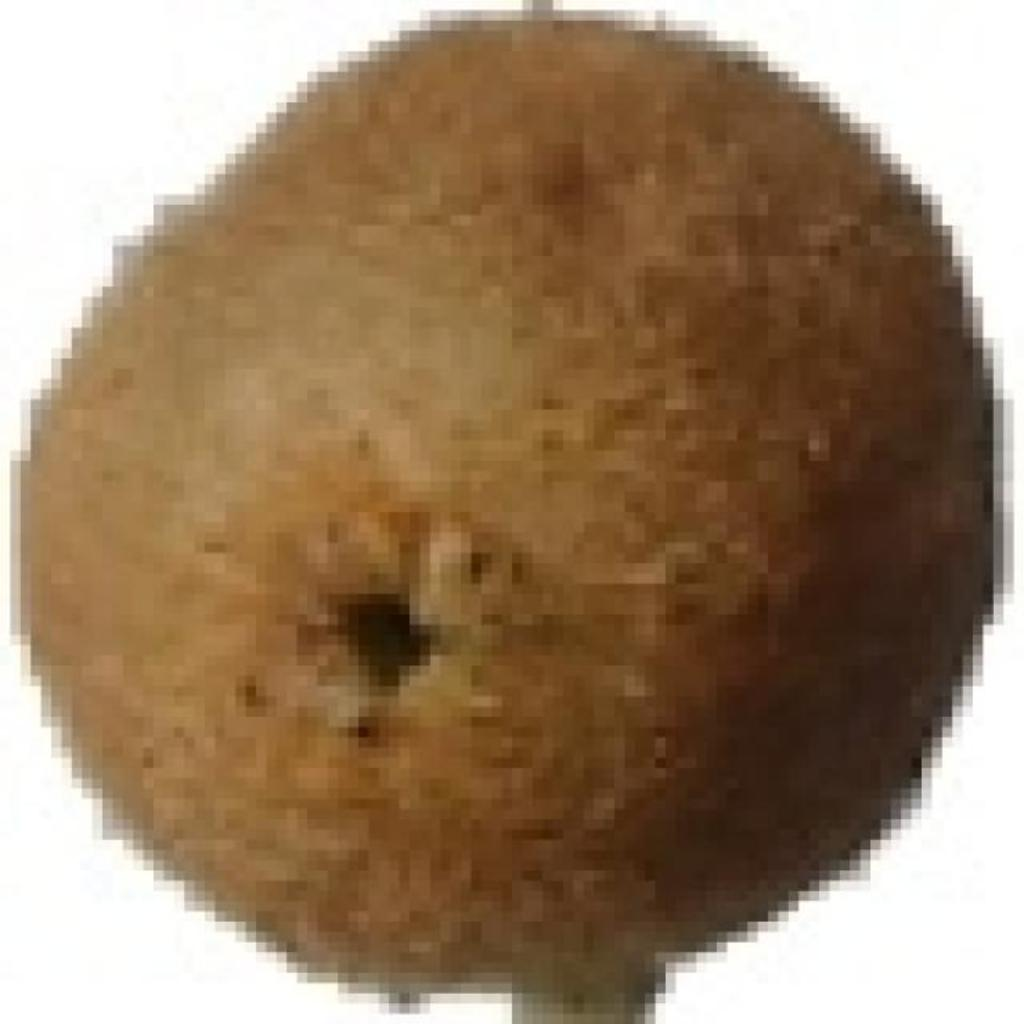kiwi: (18, 16, 1006, 1017)
